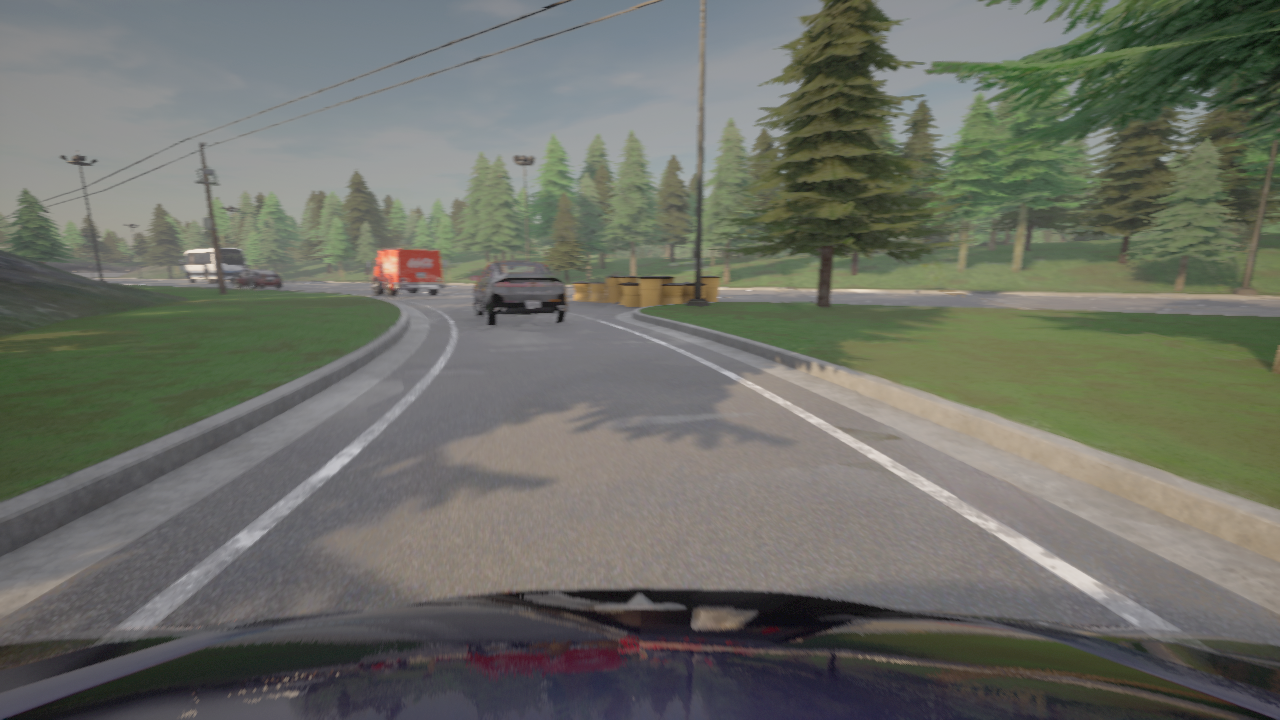cyclist: (0, 588, 1279, 719), (470, 261, 567, 325), (366, 248, 445, 296), (179, 247, 246, 283), (234, 270, 281, 288), (232, 271, 244, 284)
